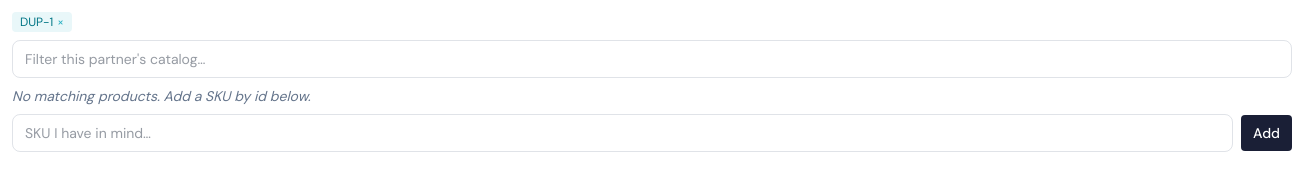
Scenario: PartnerSkuPicker › shows an "Already selected" notice on a duplicate free-text add
Type "DUP-1" into the field with placeholder "SKU I have in mind…" at (623, 133), box [12,114,1233,152]
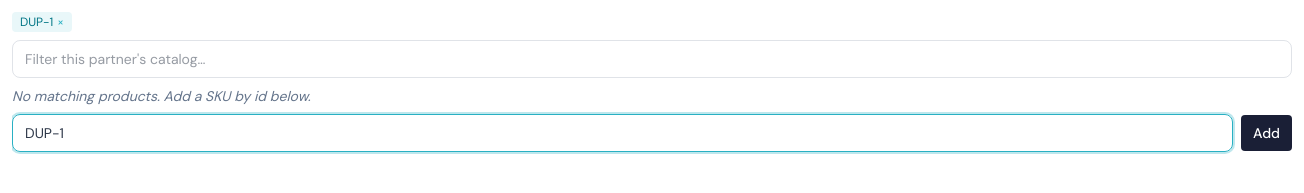
Click the button "Add" at (1267, 133), box [1241,115,1292,151]
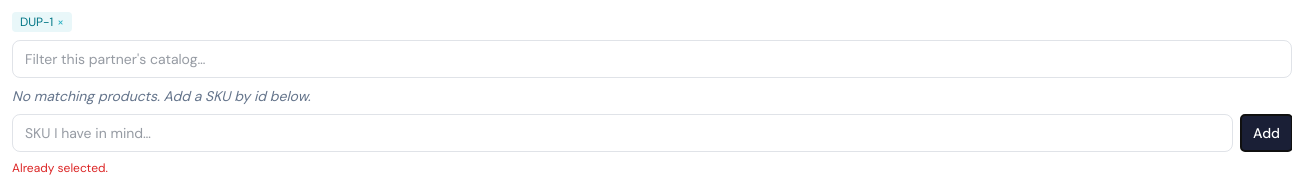
Expected: the text "Already selected." is shown, [12,160,108,176]
